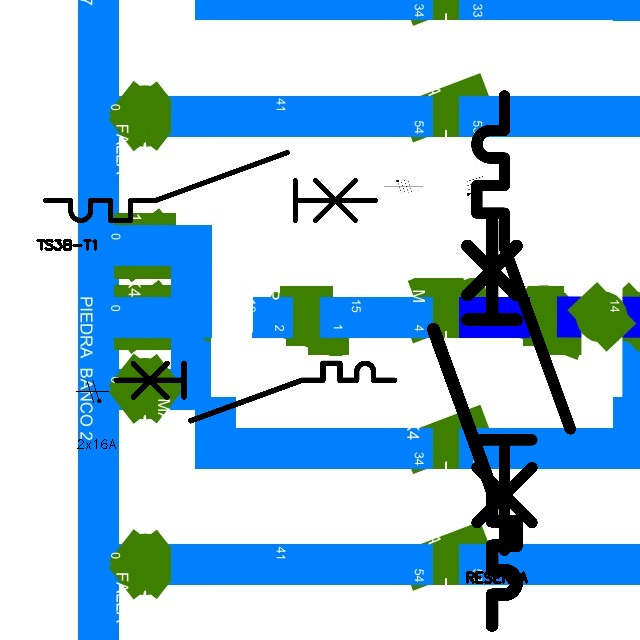interruptor_termomagnetico: (465, 84, 582, 562), (423, 211, 527, 636), (37, 144, 383, 229), (109, 356, 402, 427)
